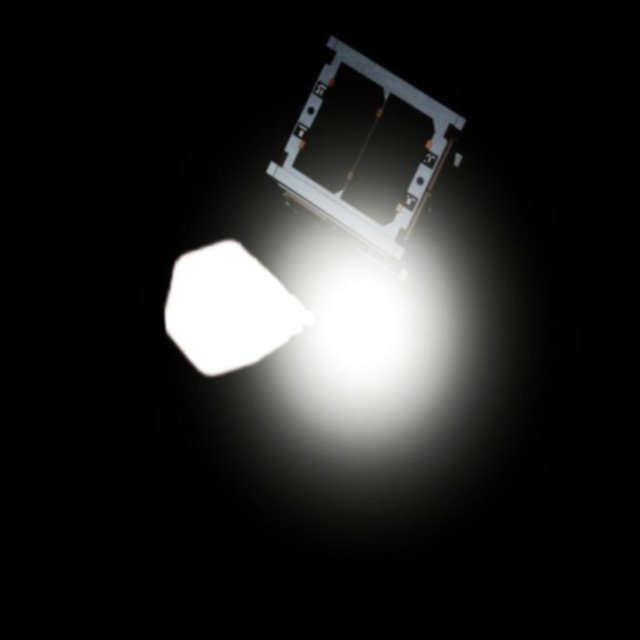medium_debris: (254, 27, 477, 276)
